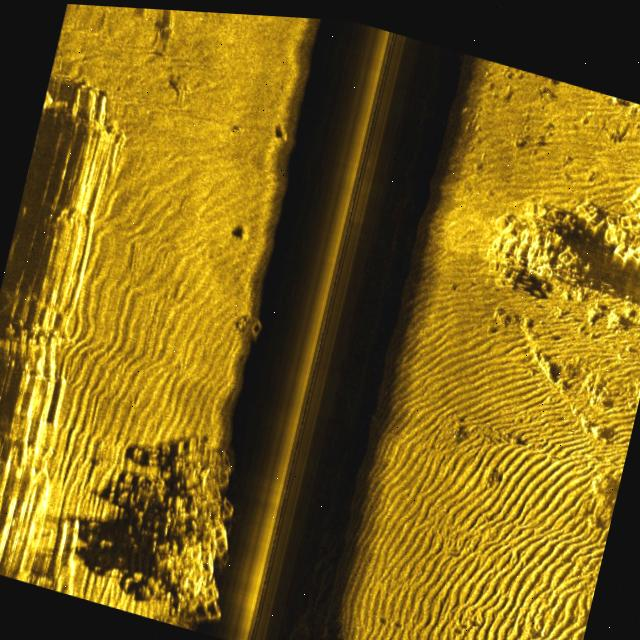artificial reef: (108, 424, 268, 639), (490, 126, 640, 310), (220, 287, 274, 345)
